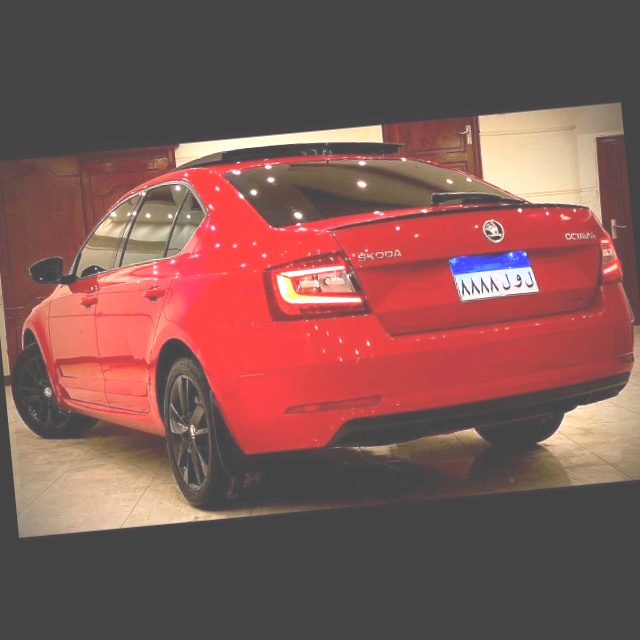License Plate: (446, 247, 541, 305)
